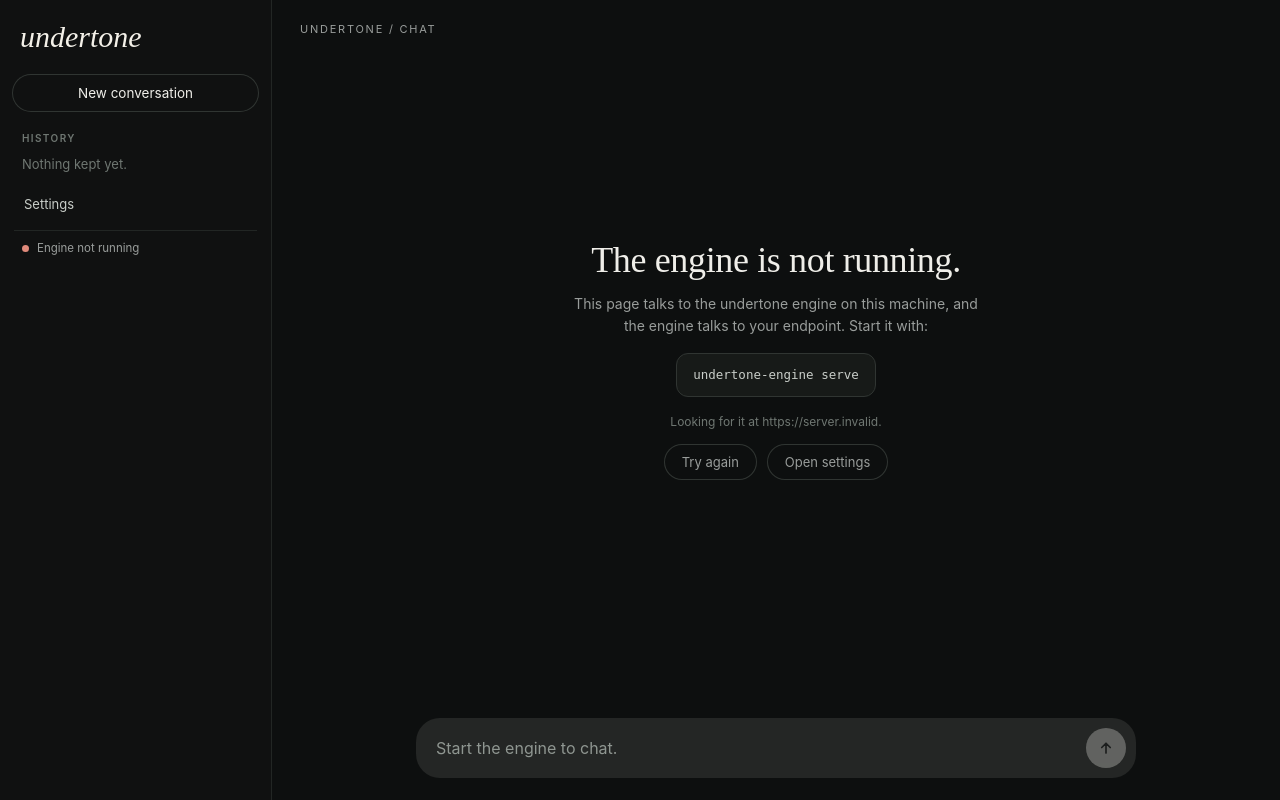
Scenario: the chat page › explains how to start the engine when it is not running, and finds it on Try again
Expected: the heading "The engine is not running." is shown, [591,240,961,281]
Expected: the text "undertone-engine serve" is shown, [676,353,876,398]
Click the button "Try again".
click(710, 462)  # box [664,444,757,480]
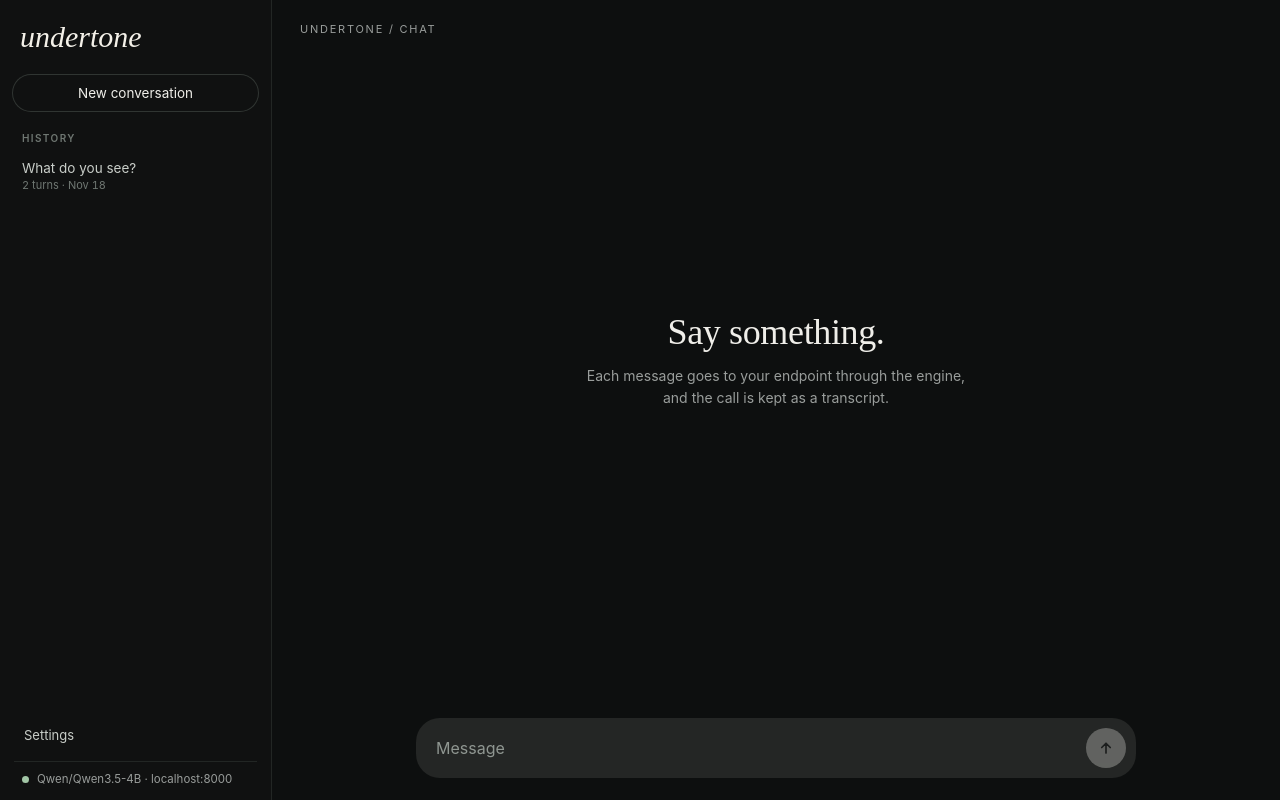
Now the heading "Say something." is shown, box [668,312,884,353]
Now the message reads "Qwen/Qwen3.5-4B · localhost:8000", box [37,772,232,786]
